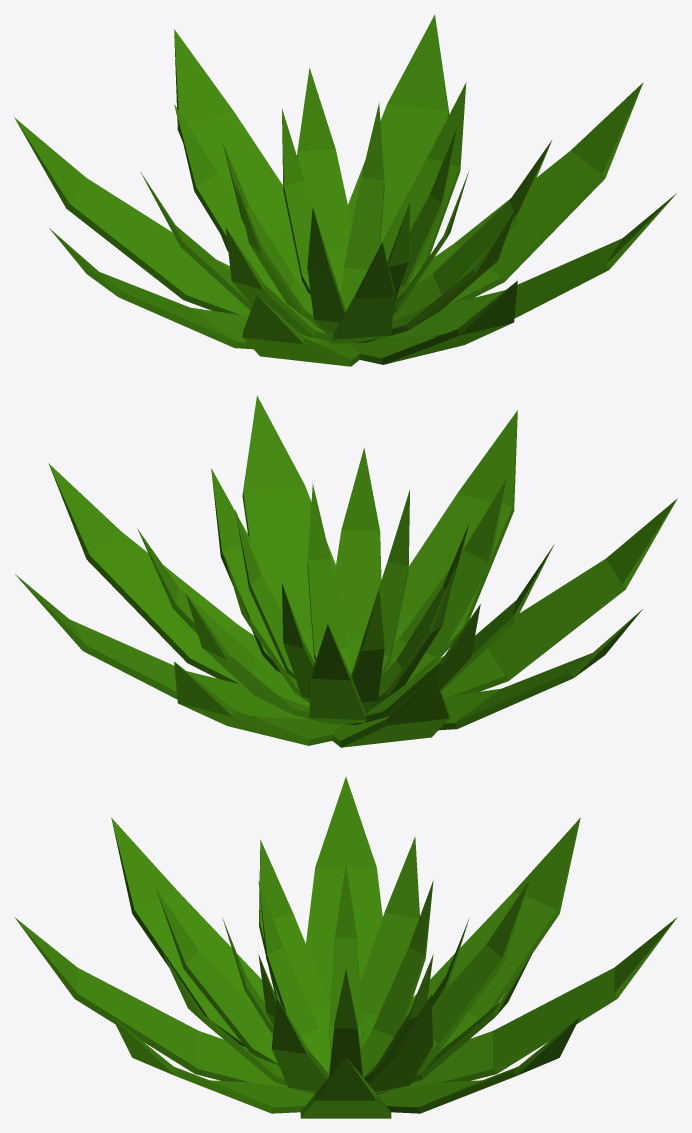
The model's file is Plant_i_04.fbx.
3 renders of one model, top to bottom at view 1: azimuth 30°, elevation 25°; view 2: azimuth 150°, elevation 25°; view 3: azimuth 270°, elevation 25°, orthographic. The views are drawn at different scales.
Parts seen in each view (by area): view 1: Plant_i_04_LOD0; view 2: Plant_i_04_LOD0; view 3: Plant_i_04_LOD0.
Boxes of the visible parts, <box> form: Plant_i_04_LOD0: <box>14,14,676,366</box>; Plant_i_04_LOD0: <box>15,395,677,747</box>; Plant_i_04_LOD0: <box>14,777,677,1118</box>.
Size of what is drawn, in the model's own units: 20.17 by 6.16 by 20.17.
